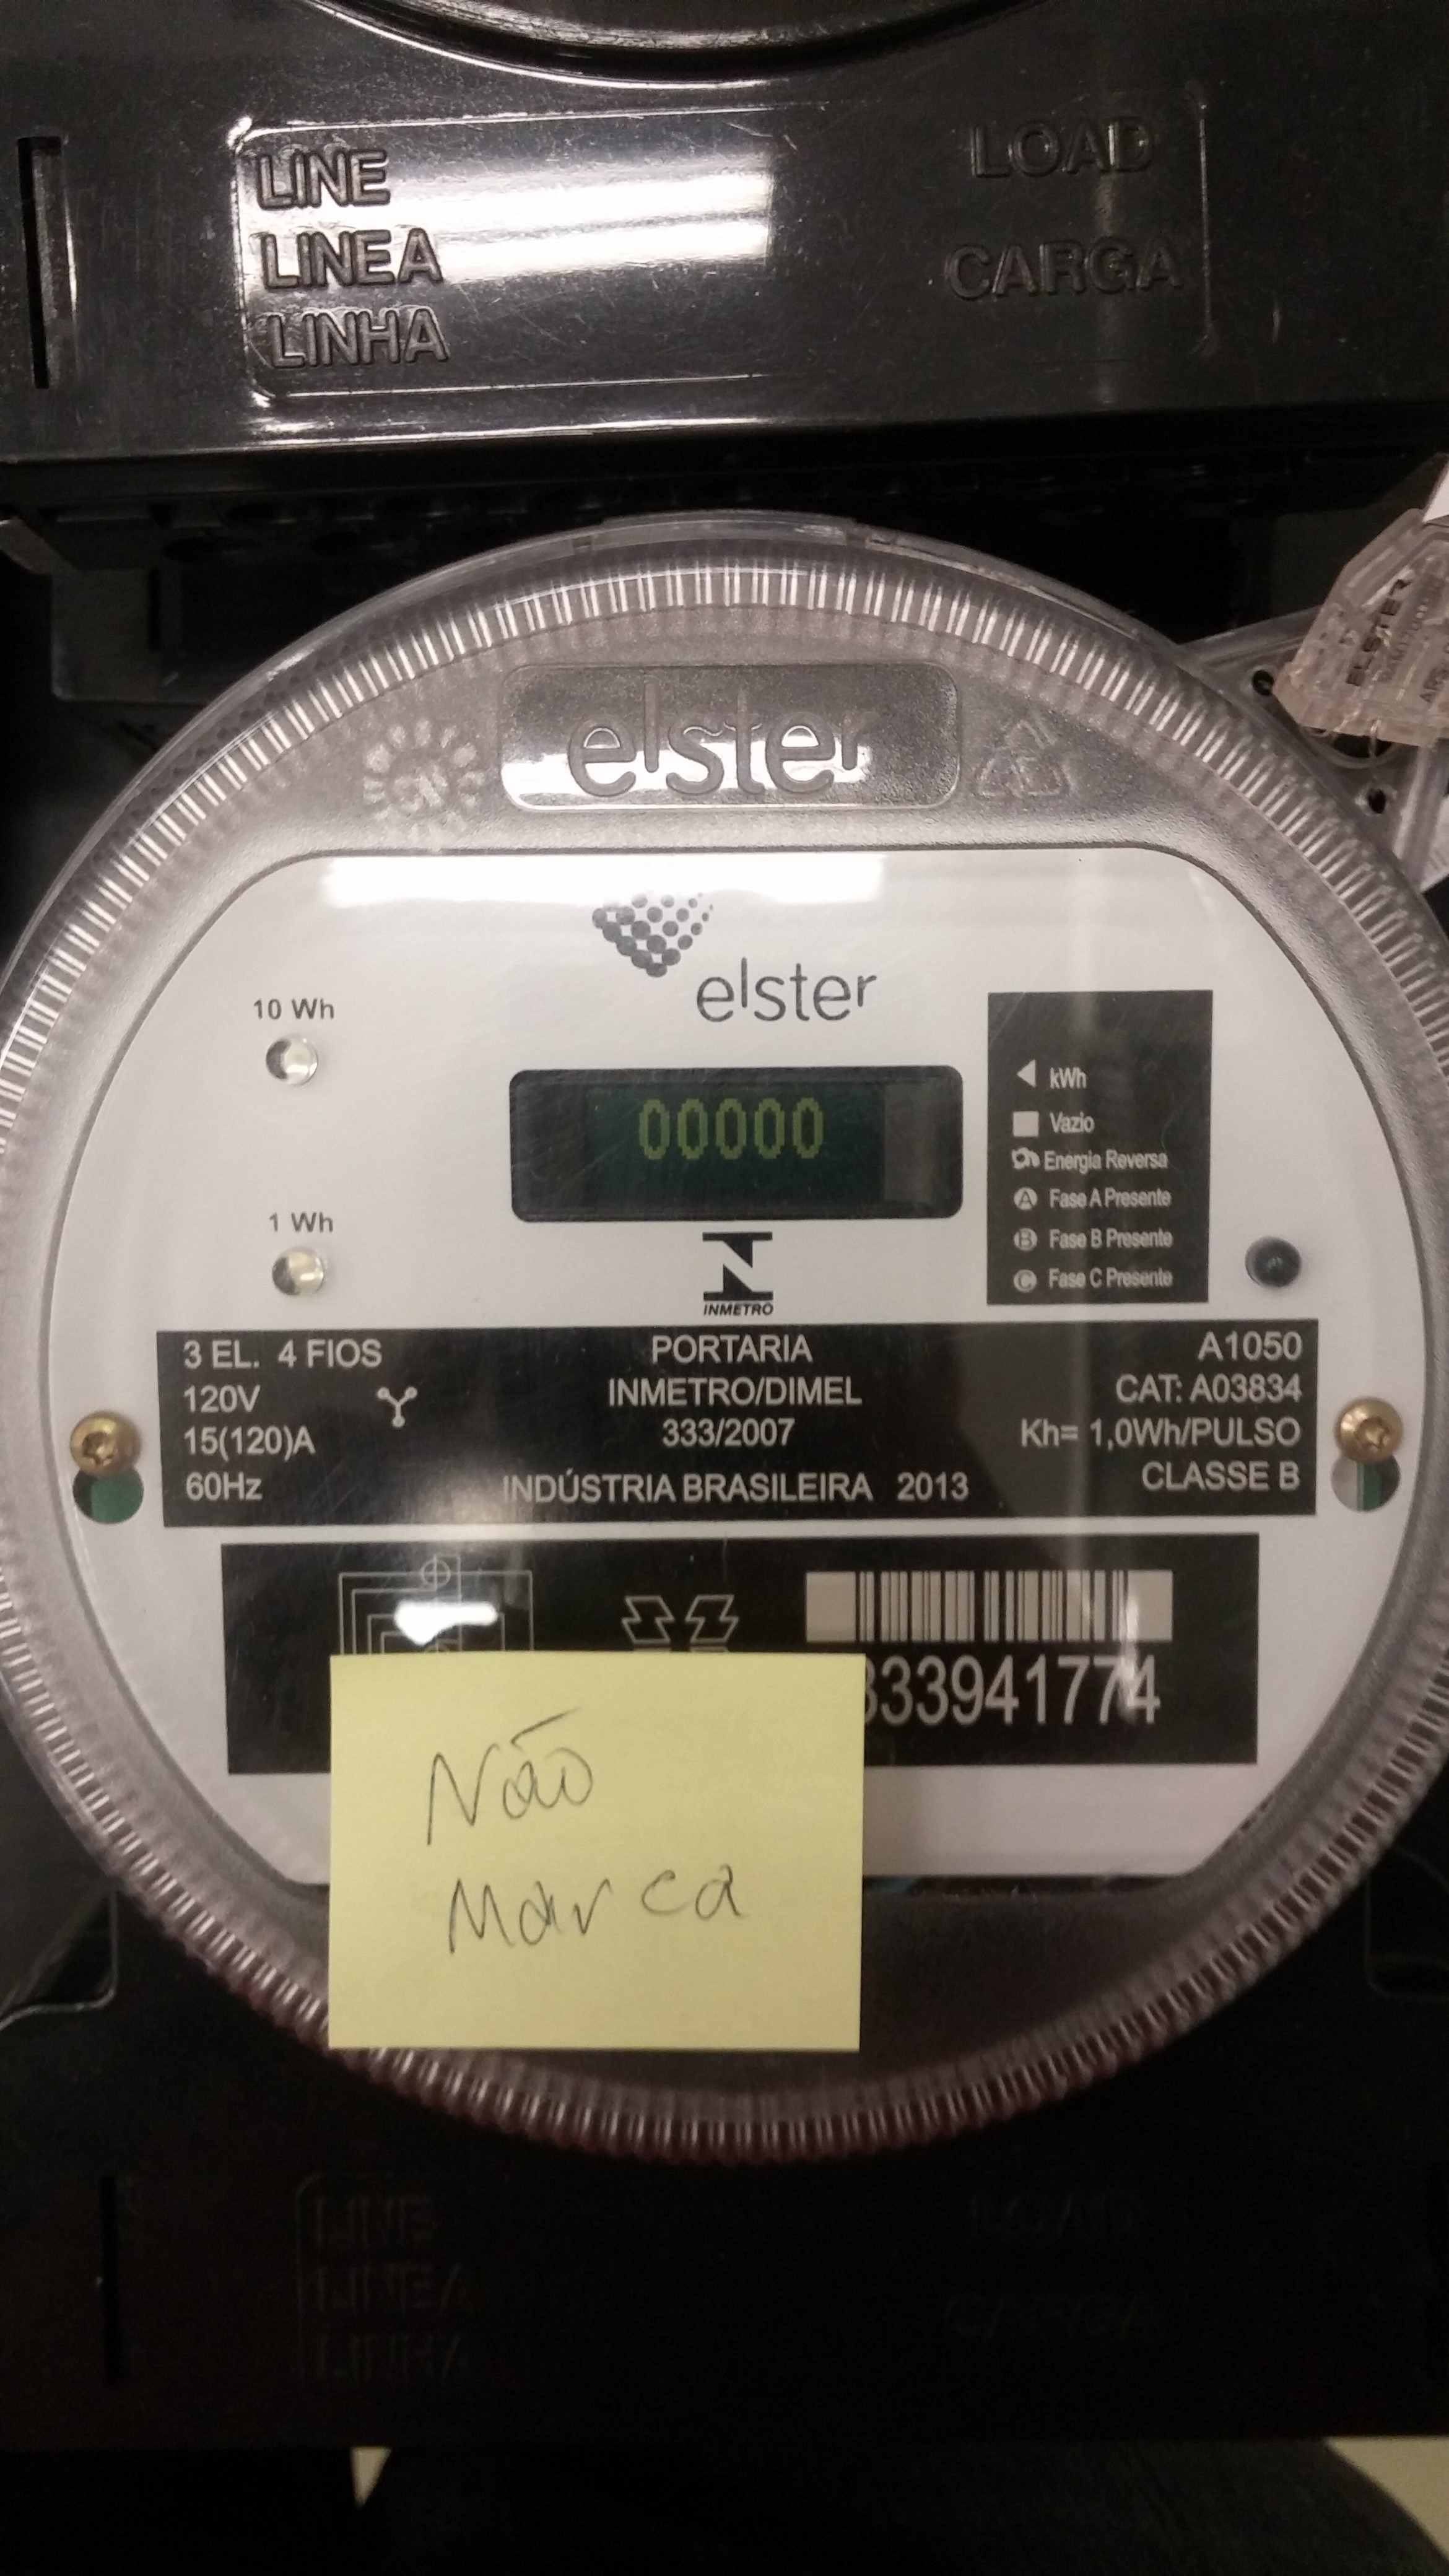counter: (501, 1058, 973, 1228)
